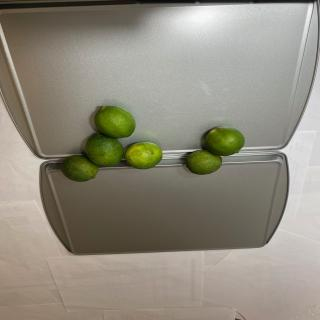Lemon: (94, 105, 136, 138), (85, 133, 124, 167), (204, 126, 245, 156), (124, 142, 163, 170), (61, 155, 98, 182), (186, 149, 222, 175)
